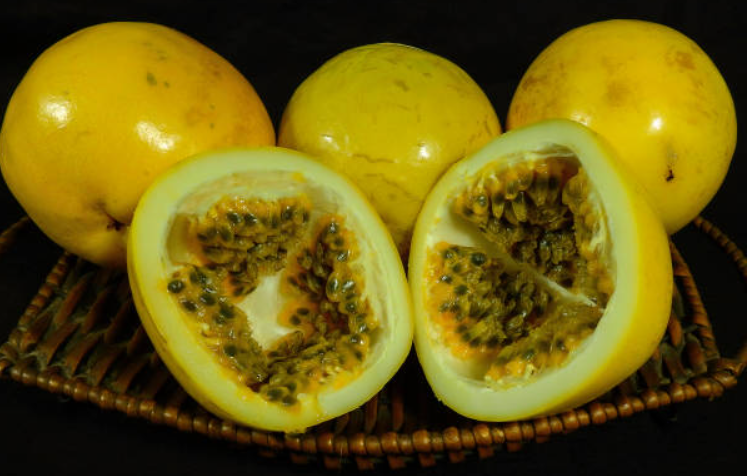maracuya: (3, 23, 274, 268), (508, 19, 740, 248), (278, 41, 503, 257)
